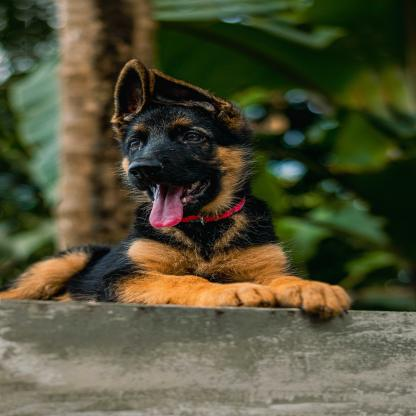dog: (0, 59, 353, 312)
